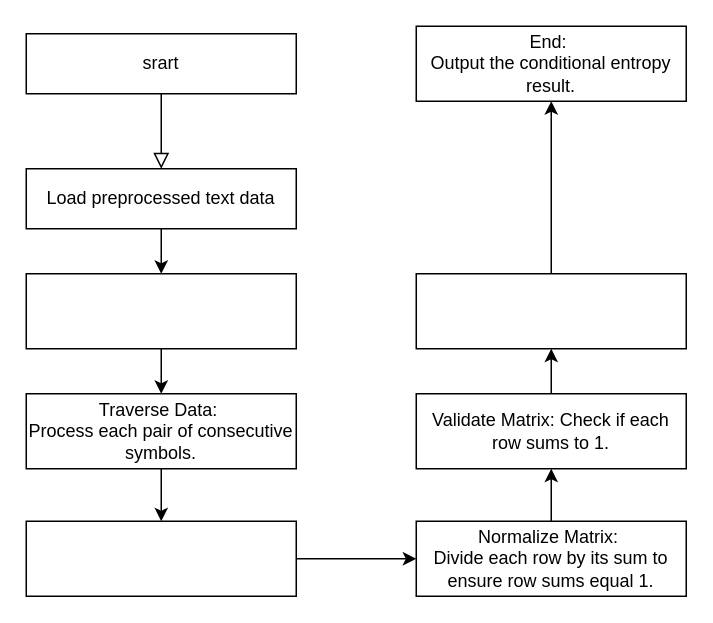
This 713x623 diagram has some shape labels left out. The shapes that lost their labels are listed below. From the top down, each one's centre as x and y in pixels, then its label:
At point (160, 310): "Initialize Matrix: Create a 27x27 conditional probability matrix.".
At point (550, 310): "Calculate Entropy: Compute H(X2|X1) using the normalized matrix.".
At point (160, 558): "Update Matrix: Increment count for each symbol pair (X1, X2).".
